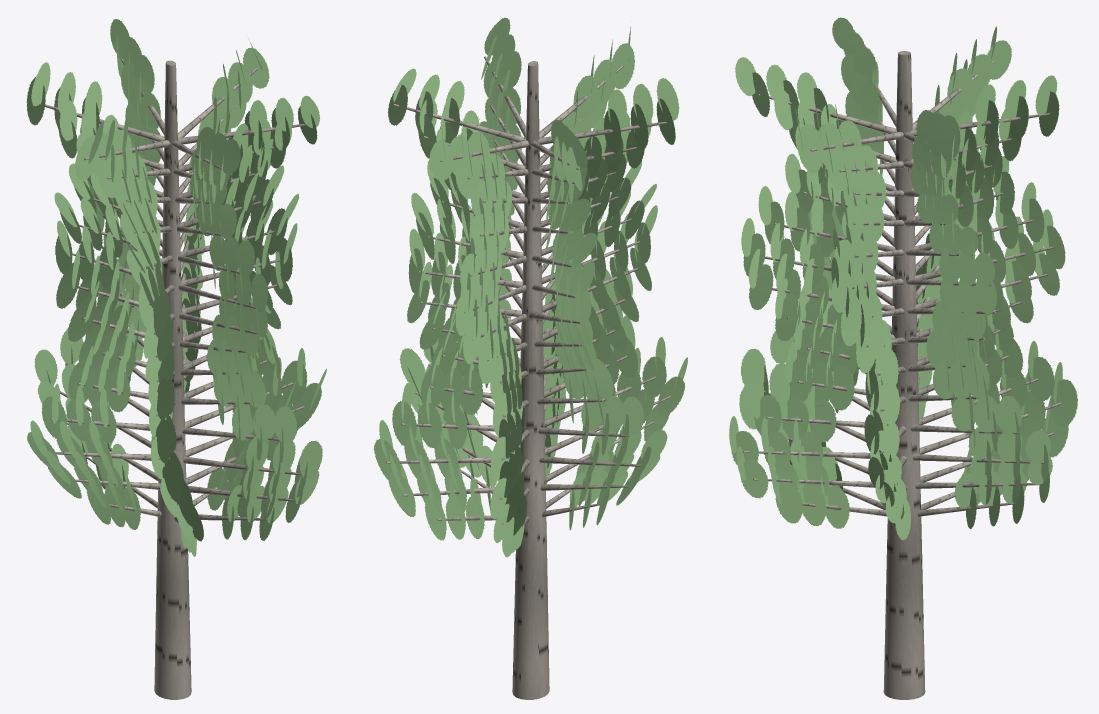
Rendered from tree_birch02.glb.
3 renders of one model, left to right at view 1: azimuth 30°, elevation 25°; view 2: azimuth 150°, elevation 25°; view 3: azimuth 270°, elevation 25°, orthographic.
Parts seen in each view (by area): view 1: foliage, branches, trunk; view 2: foliage, branches, trunk; view 3: foliage, branches, trunk.
Part boxes in pixels (<box>): foliage: <box>26,19,326,556</box>; branches: <box>39,58,305,537</box>; trunk: <box>154,60,191,699</box>; foliage: <box>374,17,687,557</box>; branches: <box>386,56,670,524</box>; trunk: <box>512,61,549,699</box>; foliage: <box>729,17,1077,540</box>; branches: <box>743,61,1061,516</box>; trunk: <box>883,51,925,699</box>.
Size of the model in its own units: 4.52 by 9.13 by 4.68.
2 materials, 2 textured.
